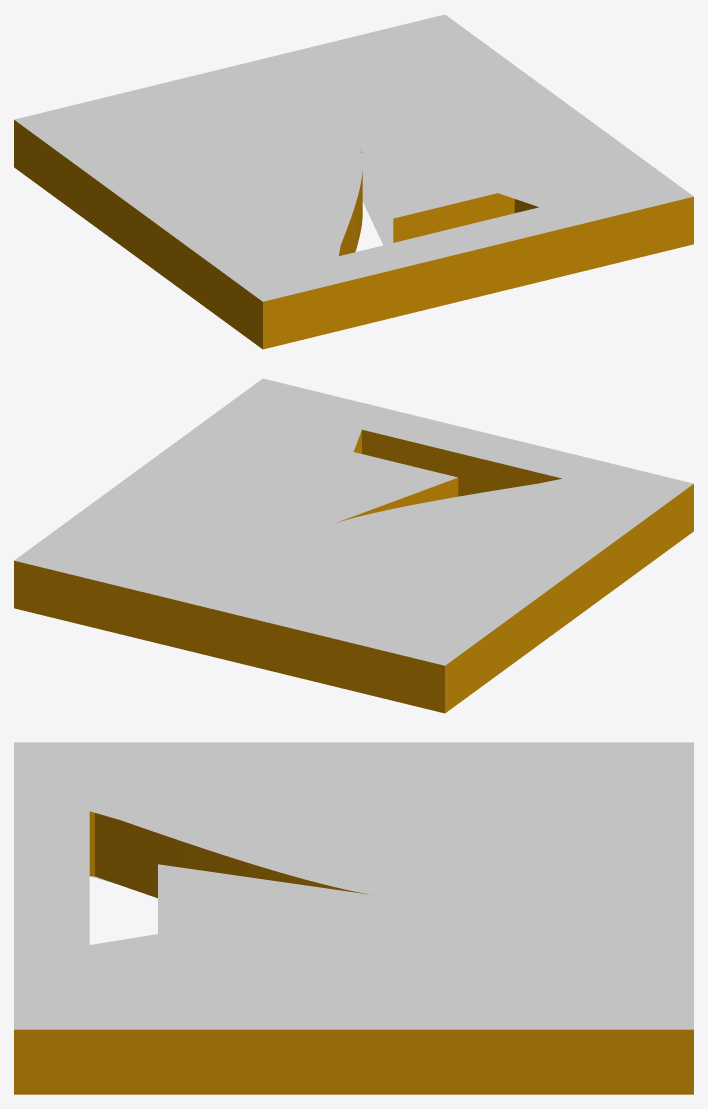
File: stracout2.fbx
3 views of the same model, one above another, from view 1: azimuth 30°, elevation 25°; view 2: azimuth 150°, elevation 25°; view 3: azimuth 270°, elevation 25° (orthographic). The views are drawn at different scales.
Parts seen in each view (by area): view 1: 2; view 2: 2; view 3: 2.
Boxes of the visible parts, x1,y1,x2,y2 form: 2: [14, 14, 693, 349]; 2: [14, 378, 693, 713]; 2: [14, 742, 693, 1094].
Bounding box in the file's own units: 464 × 49.06 × 464.
